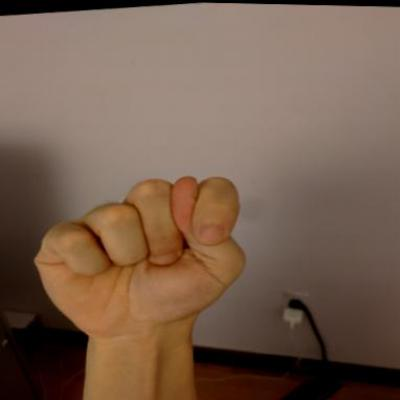hand: (21, 159, 264, 351)
